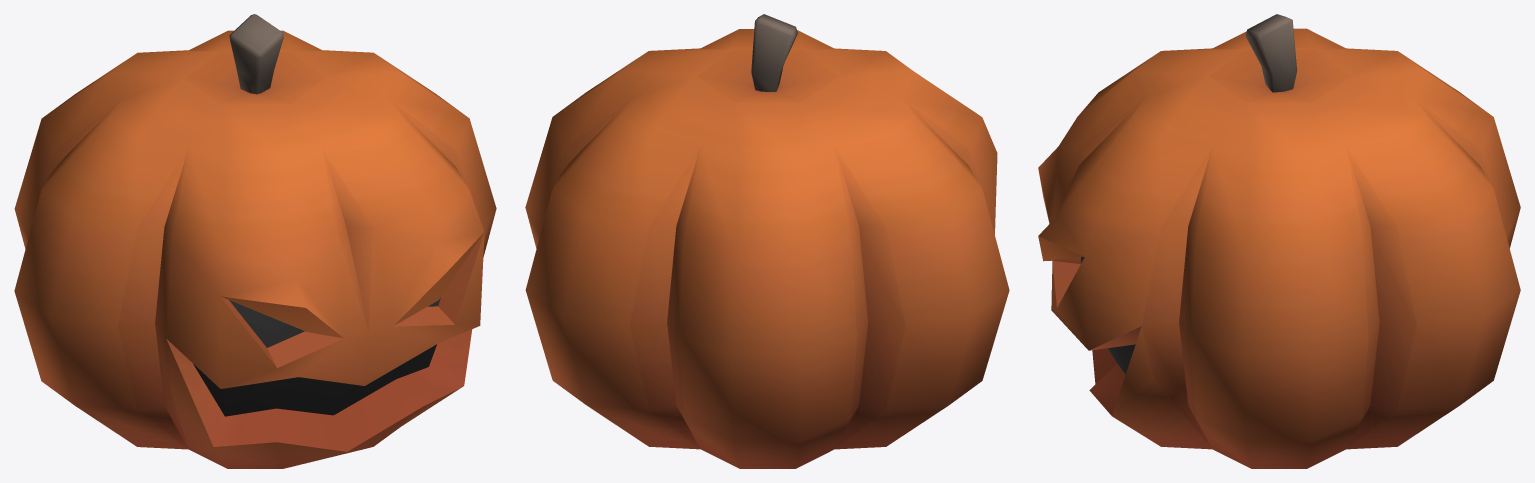
The model's file is pumpalykta.glb.
The picture shows the model from 3 angles, left to right: view 1: azimuth 30°, elevation 25°; view 2: azimuth 150°, elevation 25°; view 3: azimuth 270°, elevation 25°; orthographic projection.
Parts seen in each view (by area): view 1: pumpkin_orange_jackolantern; view 2: pumpkin_orange_jackolantern; view 3: pumpkin_orange_jackolantern.
Boxes of the visible parts, x1,y1,x2,y2 form: pumpkin_orange_jackolantern: (14,14,496,468); pumpkin_orange_jackolantern: (525,14,1009,468); pumpkin_orange_jackolantern: (1038,14,1520,468).
Bounding box in the file's own units: 1.5 × 1.3 × 1.4.
Materials: 1 (1 with a texture image).
